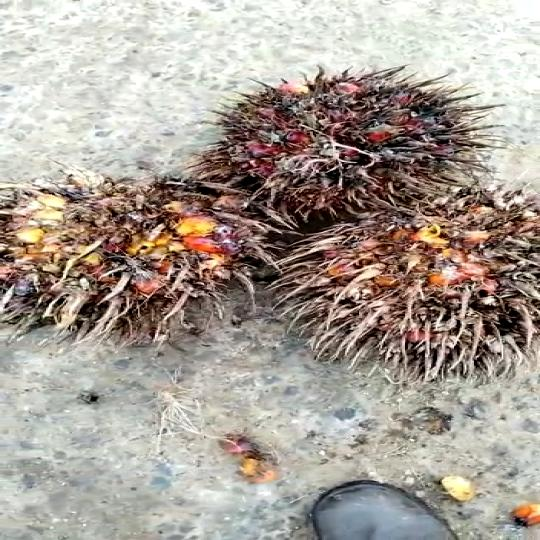terlalu masak: (276, 184, 540, 393), (186, 68, 516, 214), (0, 162, 276, 336)
